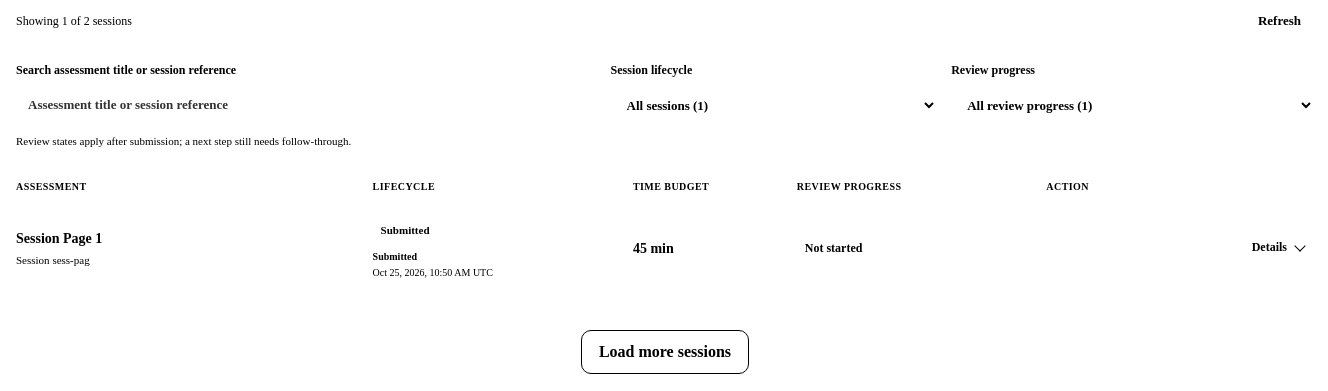
it: tenant-scoped evaluator assessment list › supports cursor-based pagination and loading more sessions
Expected: the text "Session Page 2" is not shown
Click the button with class "lifecycle-load-more-button" at (665, 352), box left=581, top=330, right=749, bottom=374
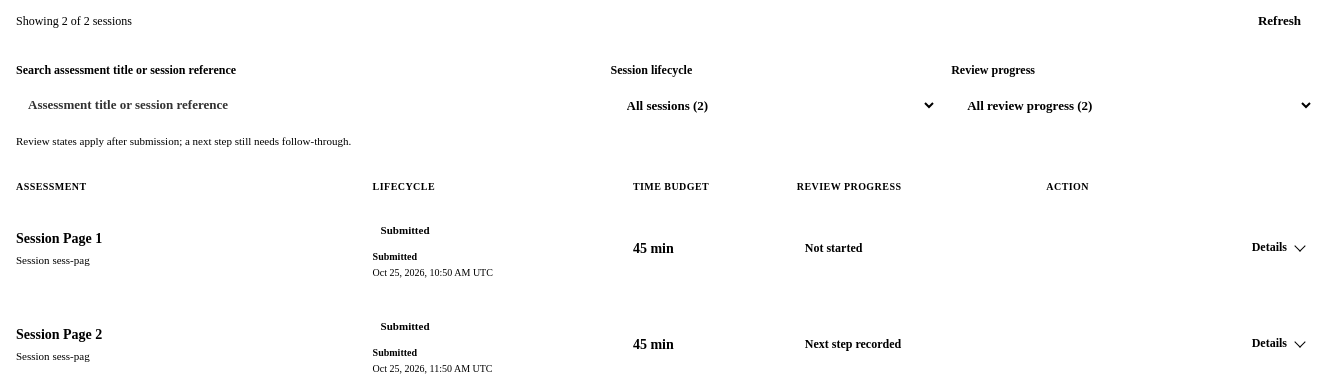
Expected: the text "Session Page 1" is shown, left=16, top=231, right=102, bottom=246
Now the text "Session Page 2" is shown, box left=16, top=327, right=102, bottom=342
Now the button with class "lifecycle-load-more-button" is gone
